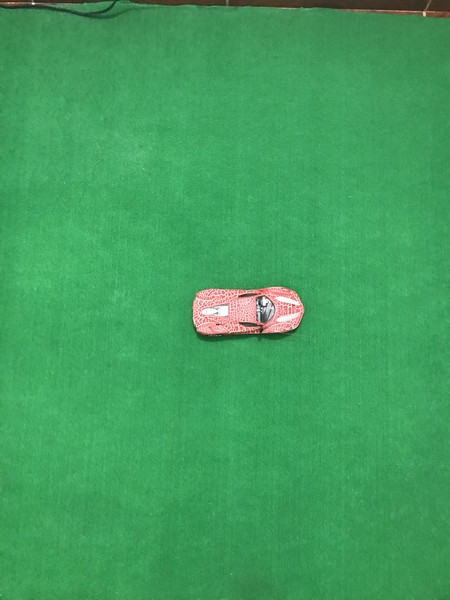RC: (190, 286, 307, 339)
